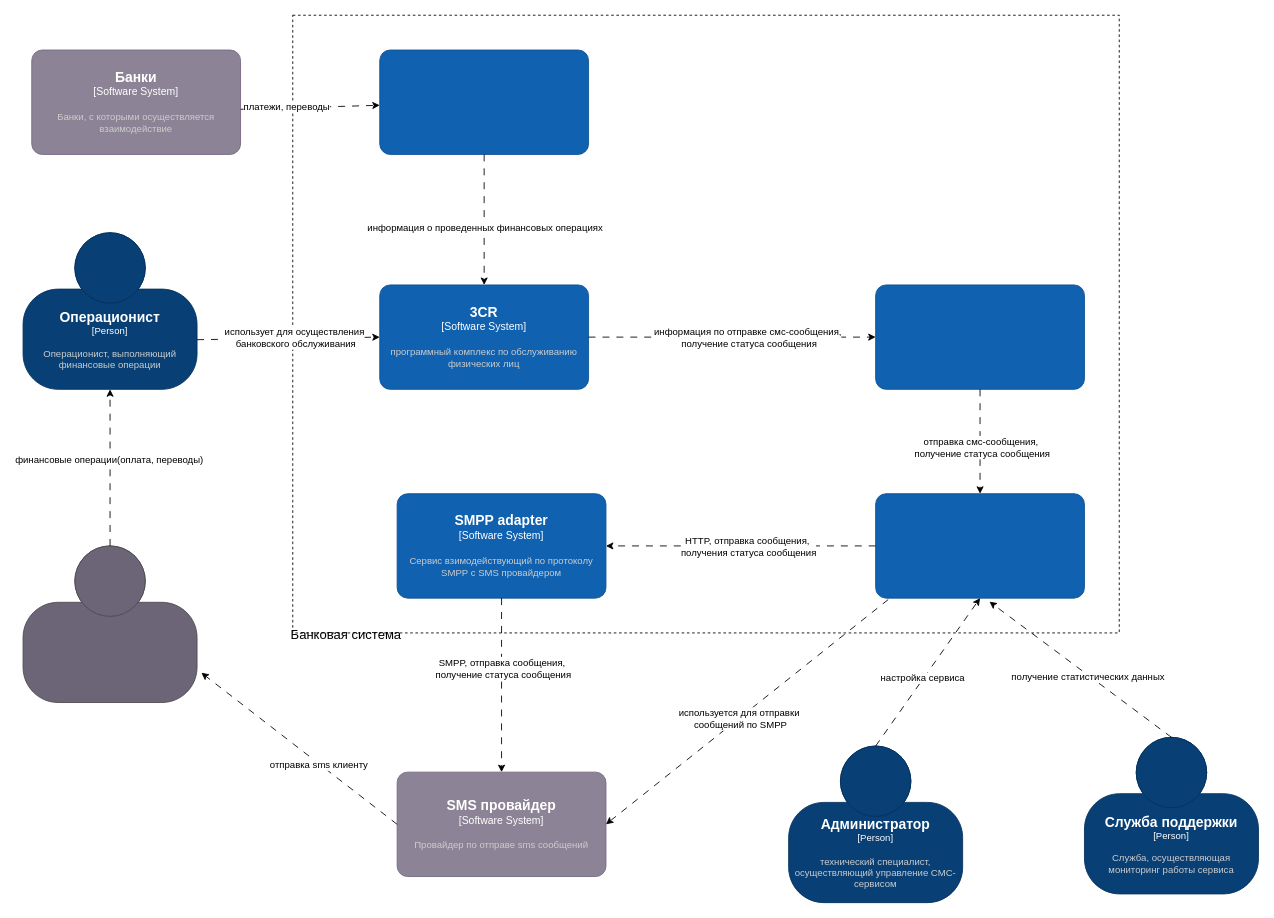
This 1274x918 diagram has some shape labels left out. The shapes that lost their labels are listed below. From the top down, each one's centre as x and y in pixels, then its label:
point 484,101: 3CF [Software System] Процессинговый Центр
point 979,336: RC ESB [Software System] Шина для взаимодействия со внешними системами
point 979,545: СМС-сервис [Software System] СМС-сервис по отправке смс-сообщений
point 109,624: Клиент [Person] Клиент банка
